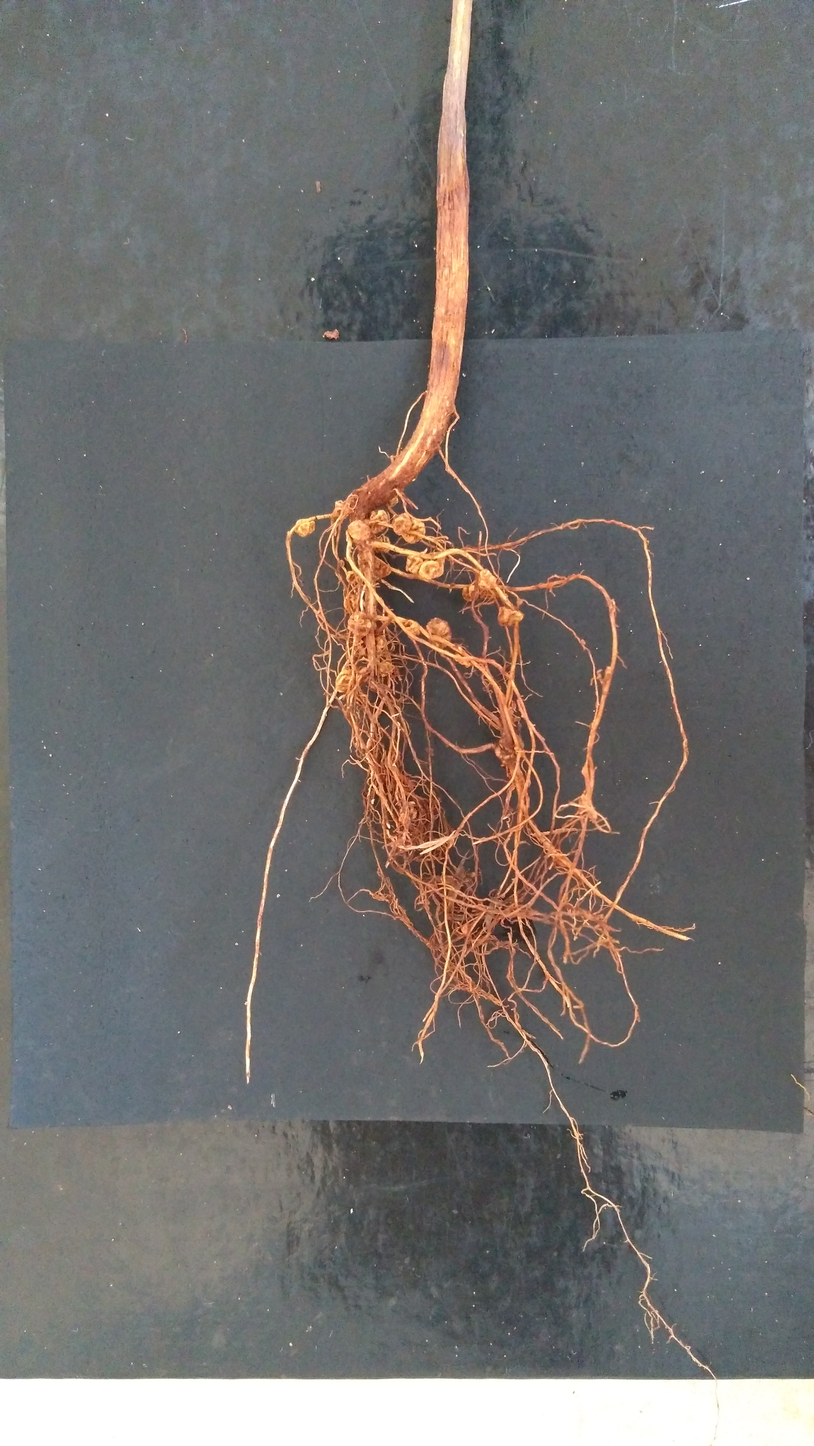nodule: (394, 513, 425, 544), (426, 618, 451, 651), (347, 612, 371, 636), (348, 520, 373, 542), (498, 606, 523, 627), (499, 733, 524, 752), (336, 670, 357, 692), (419, 561, 444, 579), (370, 509, 388, 533), (354, 636, 369, 664), (399, 801, 417, 823), (374, 557, 391, 580), (479, 569, 497, 590), (295, 519, 315, 537), (494, 745, 516, 761), (405, 554, 423, 573), (372, 534, 390, 552), (343, 593, 359, 612), (404, 619, 420, 637), (335, 500, 351, 517), (462, 585, 479, 601), (379, 659, 393, 676), (455, 653, 472, 667), (375, 634, 387, 652), (358, 552, 368, 571), (359, 667, 369, 682), (346, 571, 357, 584), (461, 922, 470, 934), (388, 497, 398, 507), (356, 741, 365, 749), (338, 559, 345, 568), (470, 872, 476, 878)
